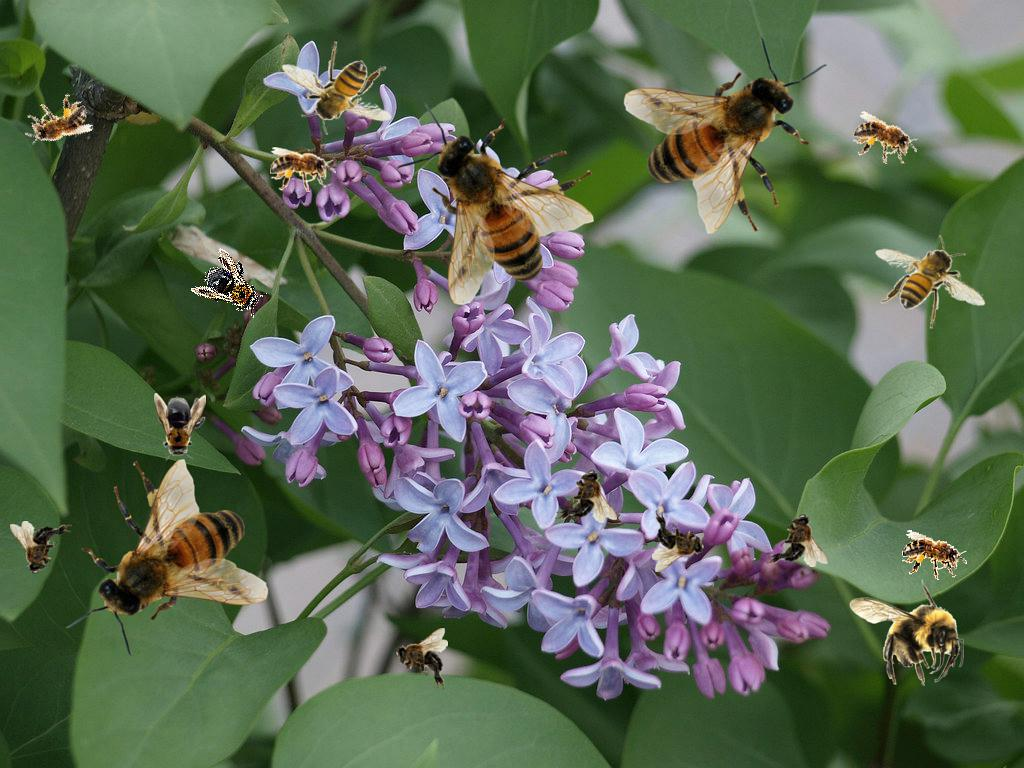Bee: (623, 35, 827, 234), (65, 459, 269, 658), (395, 102, 594, 306), (849, 579, 964, 686), (281, 41, 392, 135), (875, 235, 986, 329), (190, 246, 276, 328), (16, 88, 96, 157), (848, 110, 924, 171), (899, 529, 971, 584), (154, 393, 206, 461), (555, 470, 617, 523), (652, 510, 705, 572), (766, 514, 828, 567), (395, 628, 448, 690), (10, 521, 72, 574), (270, 147, 336, 192)
